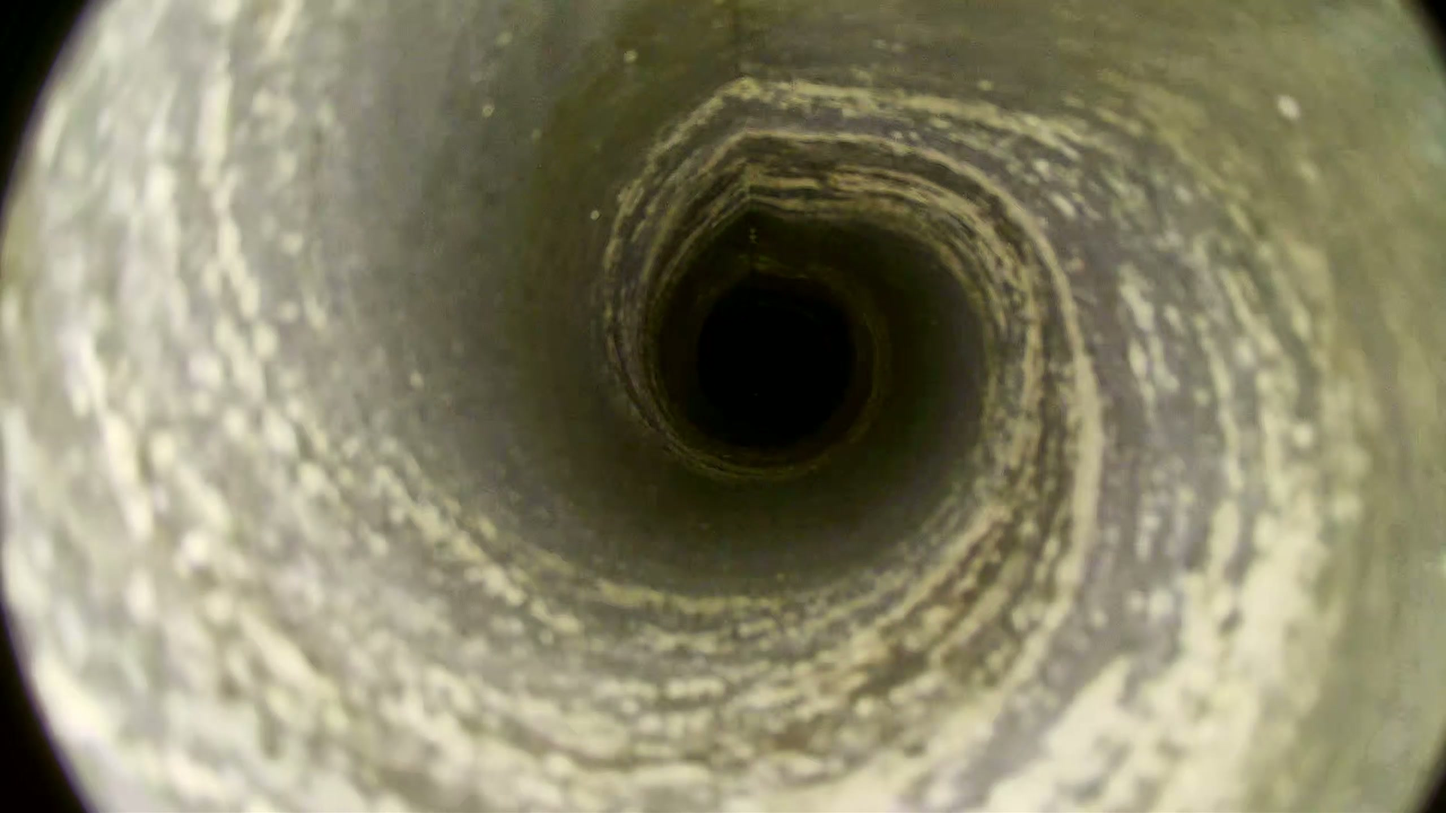hole: (701, 305, 826, 425)
